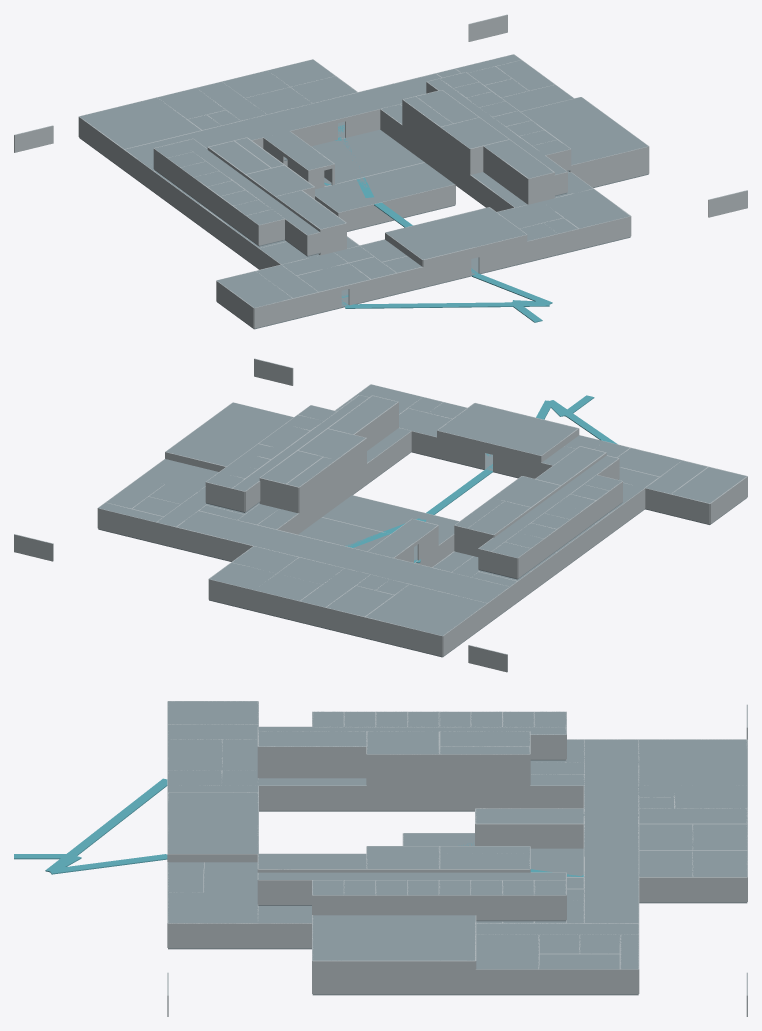
The model's file is furnished.glb.
3 views of the same model, one above another, from view 1: azimuth 30°, elevation 25°; view 2: azimuth 150°, elevation 25°; view 3: azimuth 270°, elevation 25° (orthographic). The views are drawn at different scales.
Parts seen in each view (by area): view 1: Ceiling cap cross, Ceiling cap chapel, Ceiling cap sally, Ceiling cap dining, Ceiling cap laundry, Ceiling cap plant, Wall laundry S, Wall chapel S, Ceiling cap guard-link, Wall b-rear-bypass W, Ceiling cap a-upper-gallery, Ceiling cap visitors (+47 smaller); view 2: Ceiling cap cross, Ceiling cap chapel, Ceiling cap sally, Ceiling cap dining, Ceiling cap laundry, Wall b-rear-bypass W, Wall dining N, Ceiling cap a-upper-gallery, Wall cross N.002, Ceiling cap plant, Ceiling cap isolation-wash, Wall b-dayhall W (+44 smaller); view 3: Ceiling cap cross, Ceiling cap chapel, Wall chapel E, Ceiling cap sally, Ceiling cap dining, Wall a-rear-bypass E, Wall a-dayhall E, Wall a-stair E, Ceiling cap guard-link, Wall a-front-aisle E, Wall plant-stair E, Ceiling cap b-upper-gallery (+56 smaller).
Boxes of the visible parts, x1,y1,x2,y2 form: Ceiling cap cross: (125, 73, 440, 165); Ceiling cap chapel: (521, 97, 648, 165); Ceiling cap sally: (386, 207, 526, 259); Ceiling cap dining: (80, 97, 200, 148); Ceiling cap laundry: (315, 162, 454, 212); Ceiling cap plant: (311, 130, 424, 184); Wall laundry S: (338, 184, 455, 231); Wall chapel S: (571, 146, 648, 187); Ceiling cap guard-link: (542, 189, 629, 228); Wall b-rear-bypass W: (402, 99, 440, 172); Ceiling cap a-upper-gallery: (181, 139, 319, 235); Ceiling cap visitors: (217, 271, 292, 307); Ceiling cap cross: (177, 511, 509, 602); Ceiling cap chapel: (166, 402, 293, 466); Ceiling cap sally: (437, 403, 577, 455); Ceiling cap dining: (366, 584, 486, 635); Ceiling cap laundry: (323, 495, 458, 544); Wall b-rear-bypass W: (299, 460, 336, 533); Wall dining N: (364, 617, 442, 656); Ceiling cap a-upper-gallery: (479, 455, 617, 551); Wall cross N.002: (175, 527, 353, 570); Ceiling cap plant: (298, 517, 389, 551); Ceiling cap isolation-wash: (140, 459, 218, 491); Wall b-dayhall W: (336, 438, 366, 505); Ceiling cap cross: (584, 739, 638, 923); Ceiling cap chapel: (312, 915, 475, 960); Wall chapel E: (312, 960, 475, 994); Ceiling cap sally: (168, 792, 258, 853); Ceiling cap dining: (638, 739, 747, 785); Wall a-rear-bypass E: (439, 754, 529, 810); Wall a-dayhall E: (367, 754, 439, 810); Wall a-stair E: (258, 746, 366, 778); Ceiling cap guard-link: (168, 892, 258, 923); Wall a-front-aisle E: (258, 785, 366, 810); Wall plant-stair E: (475, 823, 583, 848); Ceiling cap b-upper-gallery: (258, 872, 566, 879).
Size of the model in its own units: 76.08 by 9.96 by 81.08.
